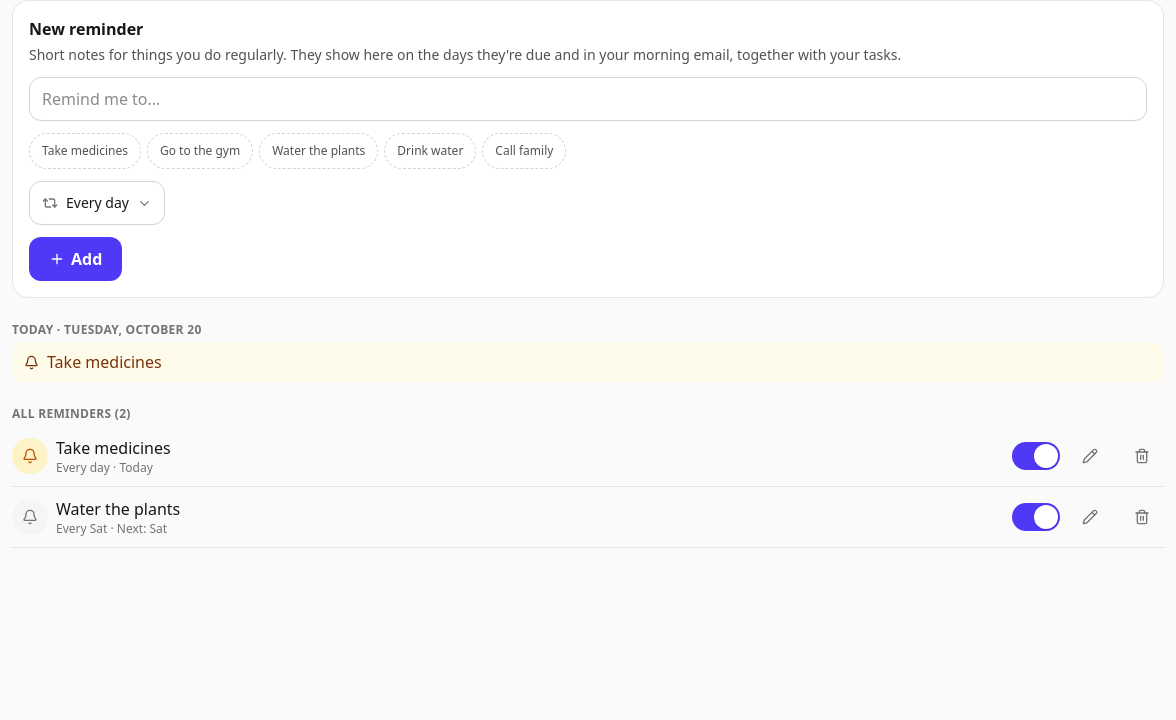
Test: RemindersPanel › deletes with undo
Click the button named "Delete reminder: Water the plants": (1142, 517) [1120,495,1164,539]
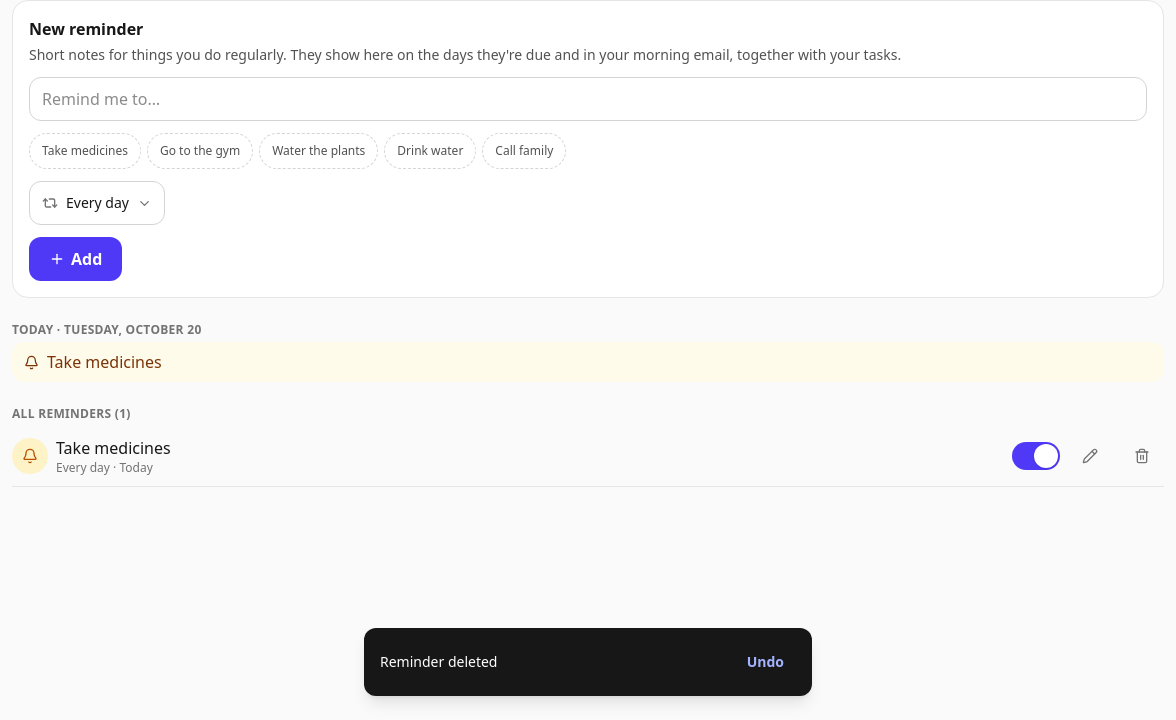
Click the button "Undo": (765, 662) [735,640,796,684]
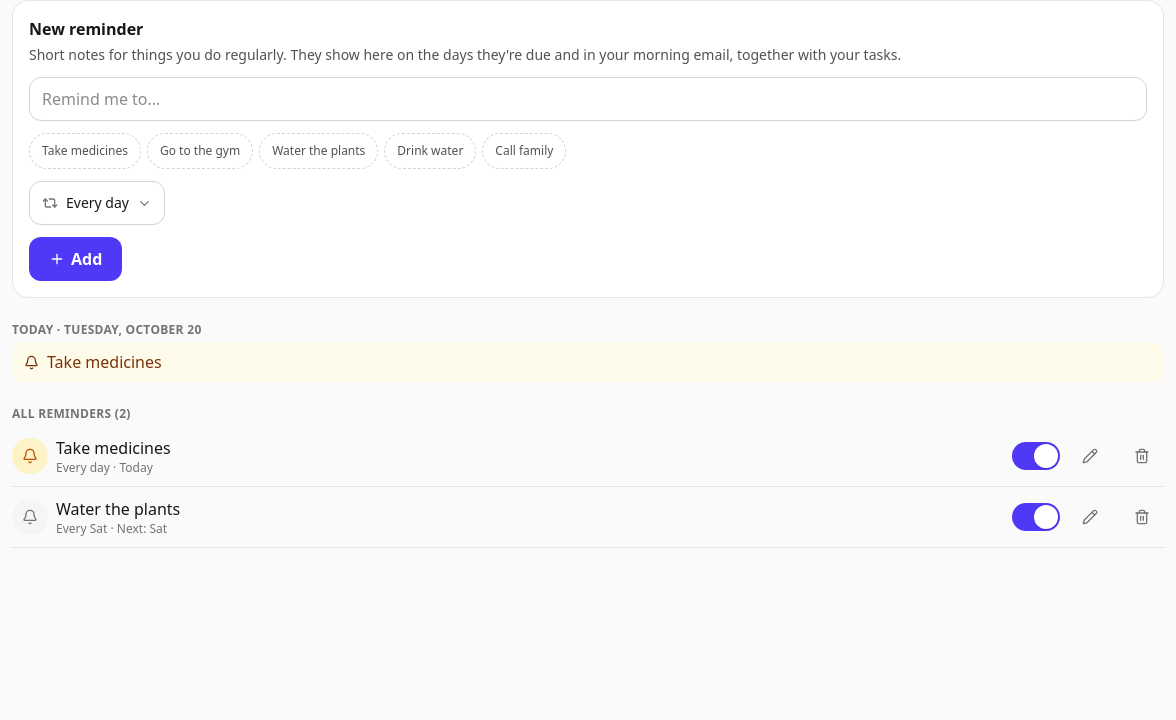
Expected: the text "Water the plants" is shown, [56,498,180,520]
